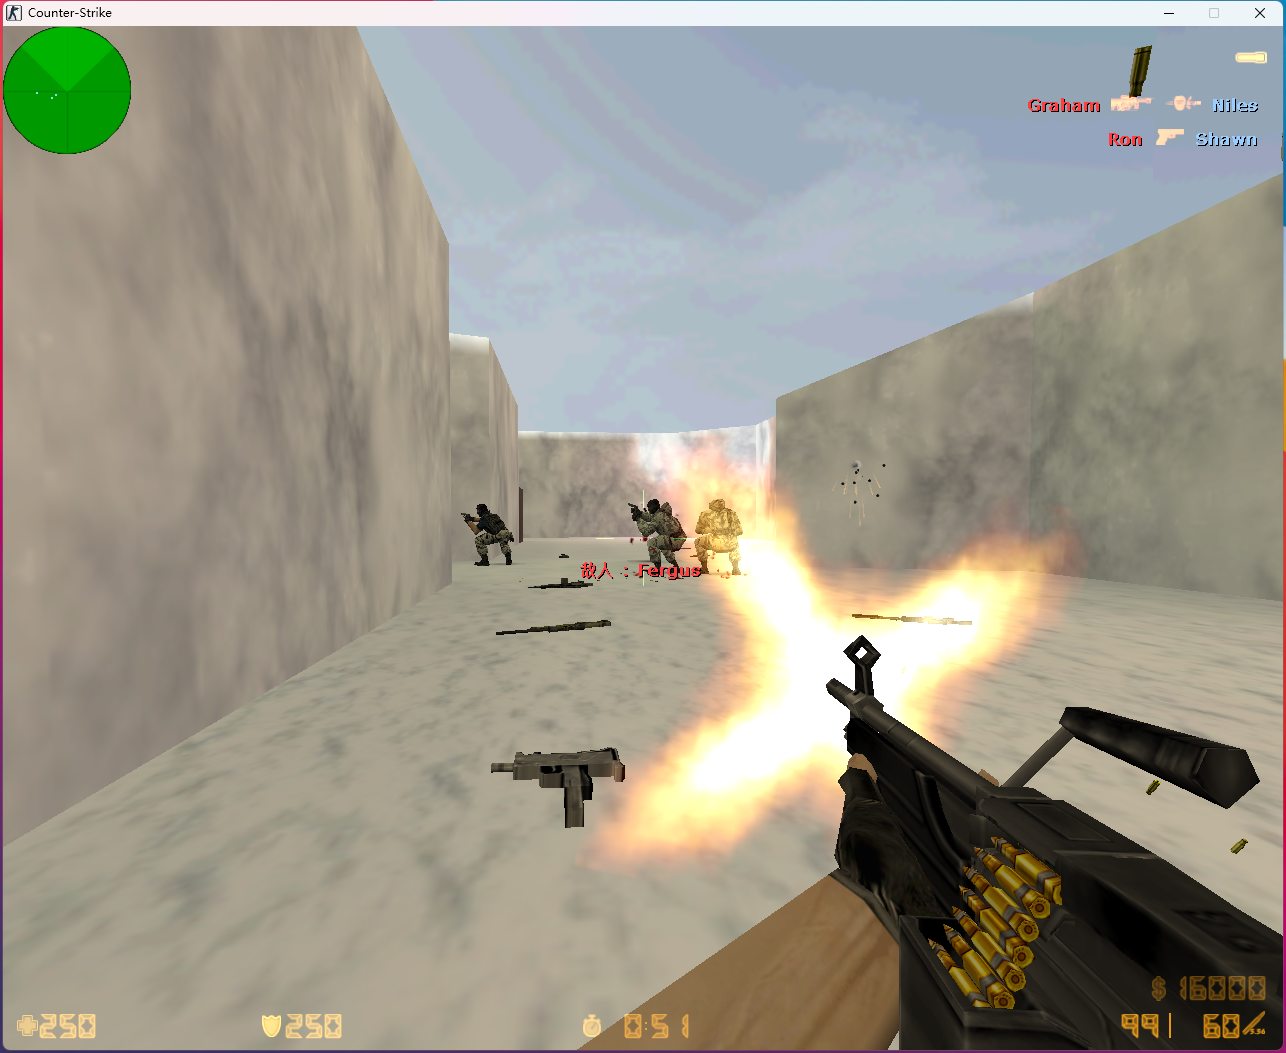T: (628, 502, 684, 573), (693, 499, 744, 575), (462, 502, 515, 566)
weapon: (489, 748, 636, 828), (495, 618, 610, 636), (851, 612, 971, 628), (528, 578, 592, 590)
